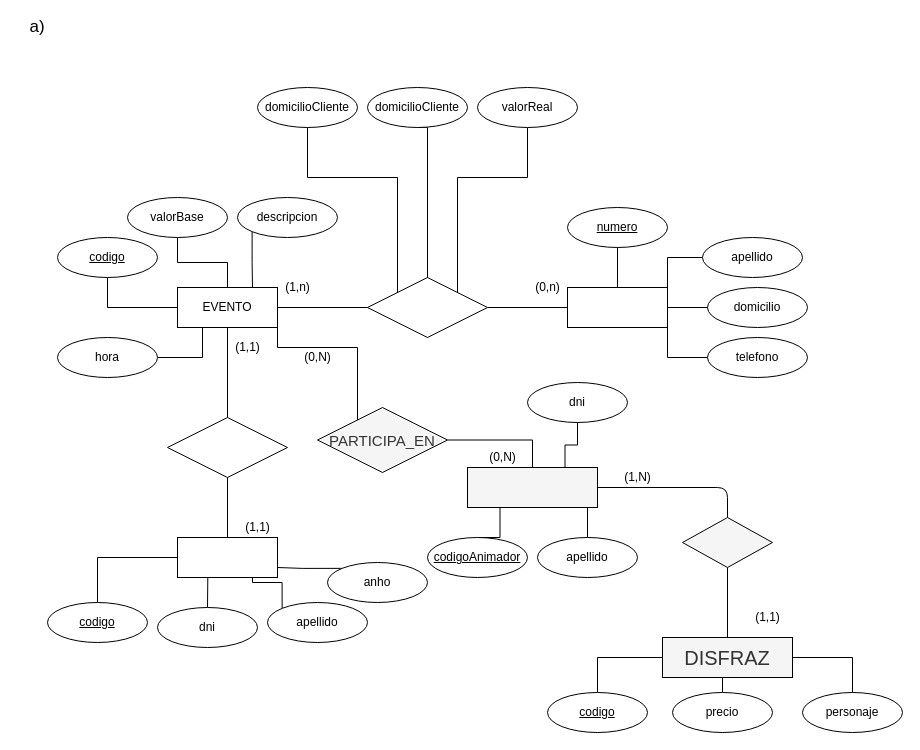
The diagram is 920 pixels wide and 750 high, and some of its shapes have lost their labels. The shapes that lost their labels are listed below. From the top down, each one's centre as x and y in pixels, then its label:
At point (427, 307): "contrata".
At point (617, 307): "CLIENTE".
At point (227, 447): "tiene".
At point (532, 487): "ANIMADORES".
At point (227, 557): "PRESENTADOR".
At point (727, 542): "USA".
